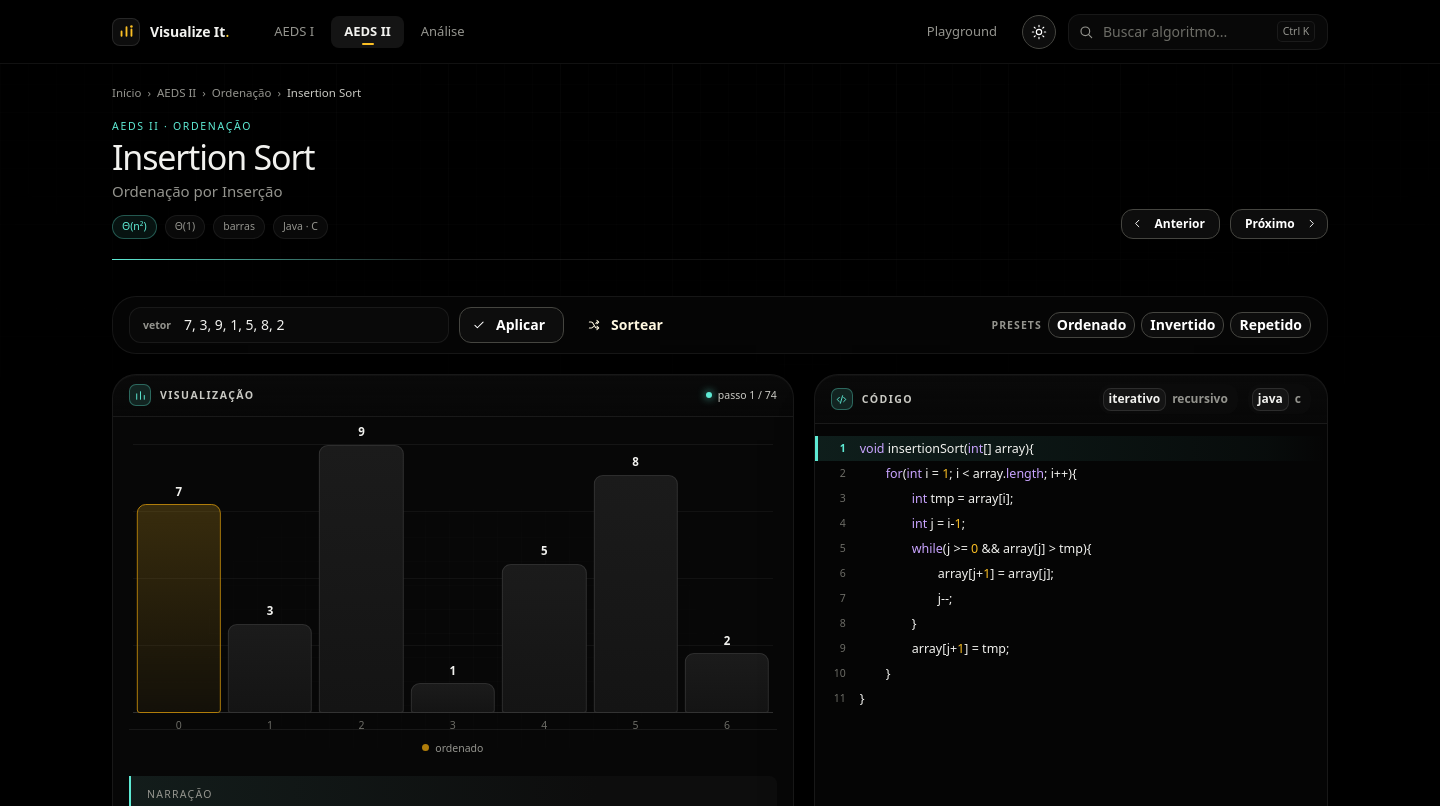
App › switches insercao between iterative and recursive listings
Click the text "recursivo": (1200, 398) x1=1172 y1=390 x2=1228 y2=407
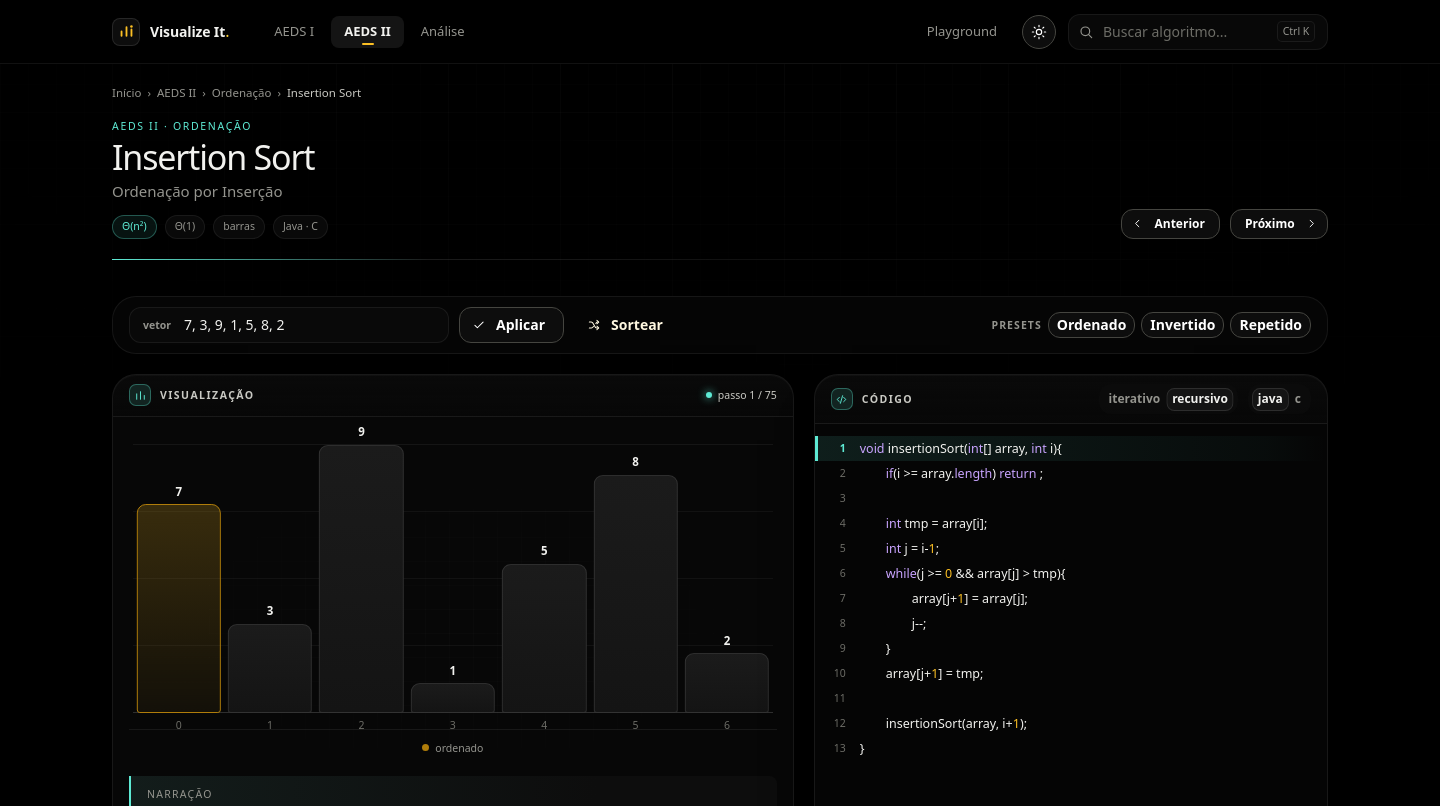
Expected: the text "insertionSort(array, i+1)" is shown, x1=860 y1=712 x2=1027 y2=736
Click the text "c": (1298, 398) x1=1295 y1=390 x2=1301 y2=407
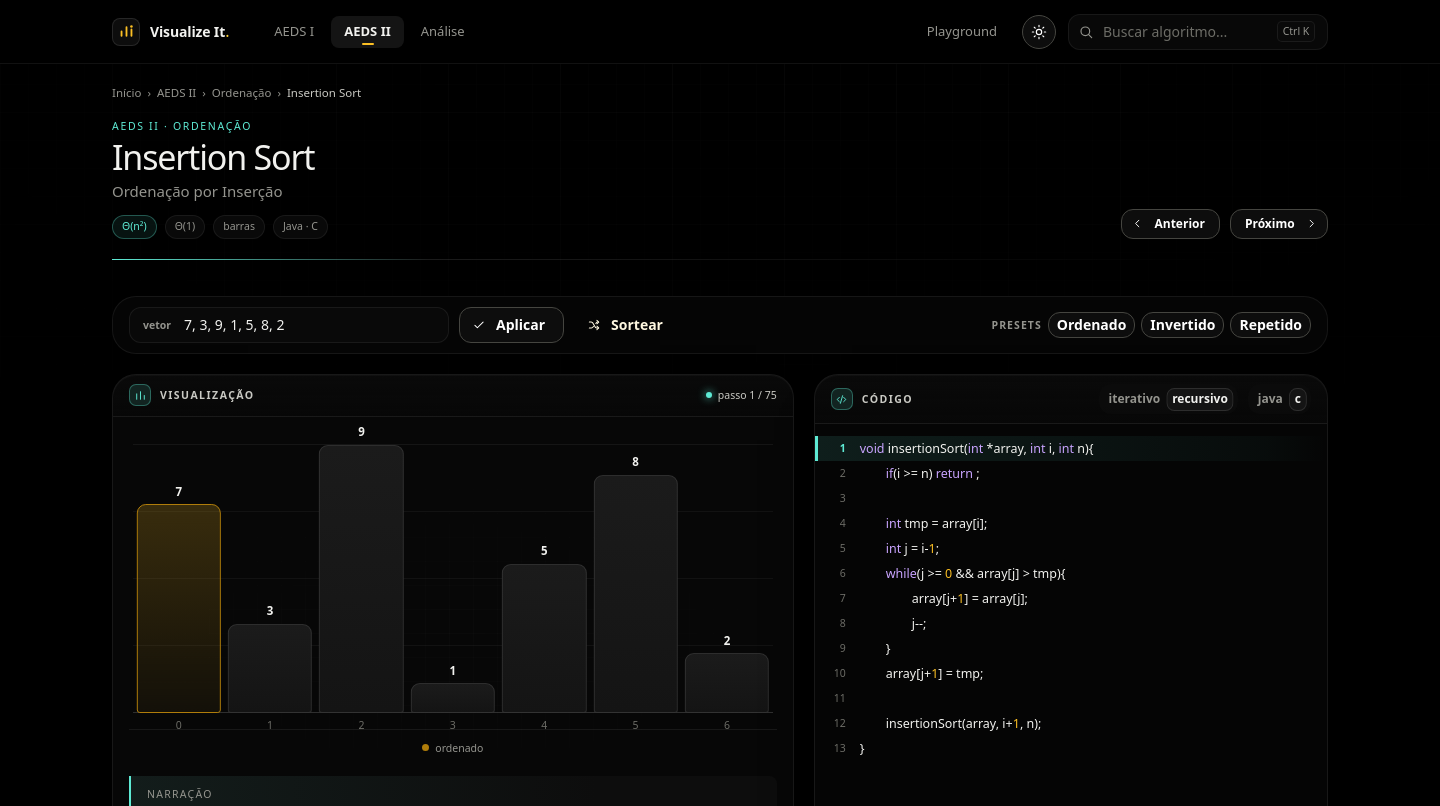
Expected: the text "void insertionSort(int *array, int i, int n)" is shown, x1=860 y1=436 x2=1094 y2=462
